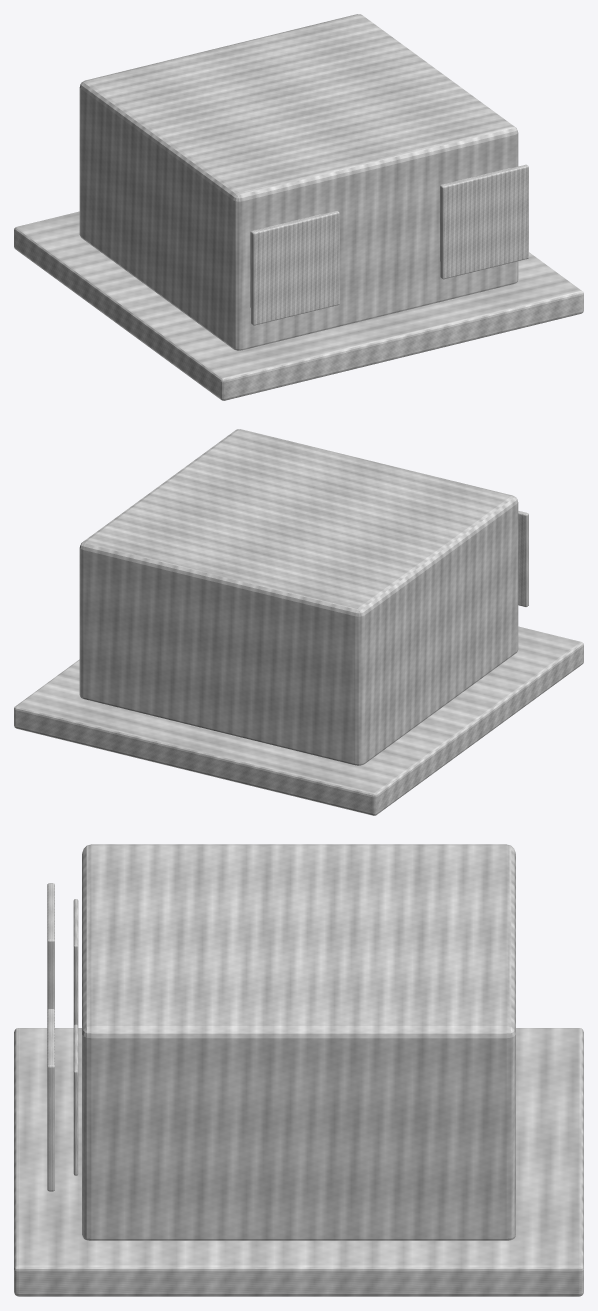
The model's file is mam_variant_b.glb.
3 renders of one model, top to bottom at view 1: azimuth 30°, elevation 25°; view 2: azimuth 150°, elevation 25°; view 3: azimuth 270°, elevation 25°, orthographic. The views are drawn at different scales.
Parts seen in each view (by area): view 1: Main structural housing.001, Foundation.001, Protective frame.002, Protective frame.003; view 2: Main structural housing.001, Foundation.001, Protective frame.002; view 3: Main structural housing.001, Foundation.001, Protective frame.003, Protective frame.002, Service bay.003, Service bay.002.
Part boxes in pixels (x1,y1,x2,y2): Main structural housing.001: (79,14,518,350); Foundation.001: (14,211,583,400); Protective frame.002: (251,211,339,325); Protective frame.003: (440,164,528,279); Main structural housing.001: (79,429,518,765); Foundation.001: (14,626,583,815); Protective frame.002: (518,511,528,606); Main structural housing.001: (82,844,515,1240); Foundation.001: (14,1028,583,1296); Protective frame.003: (47,1009,54,1191); Protective frame.002: (47,883,54,1009); Service bay.003: (73,1024,78,1175); Service bay.002: (73,899,78,1025).
Size of what is drawn, in the model's own units: 7.36 by 3.45 by 7.36.
Materials: 4 (4 with a texture image).
